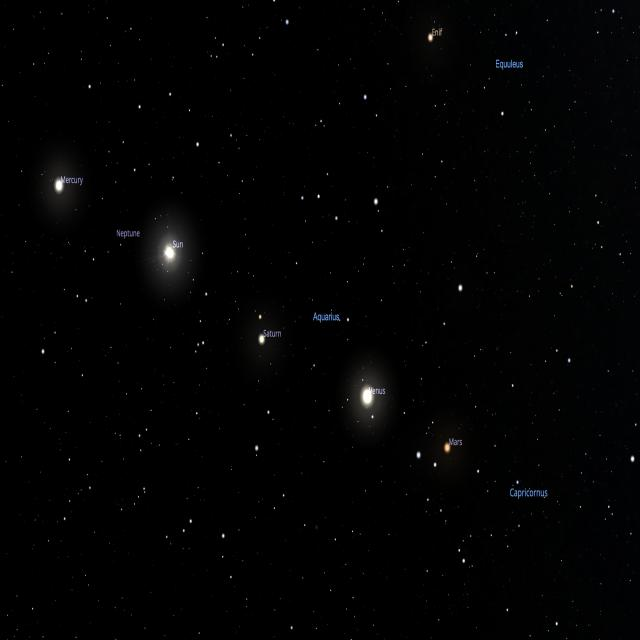Aquarius: (188, 195, 575, 544)
